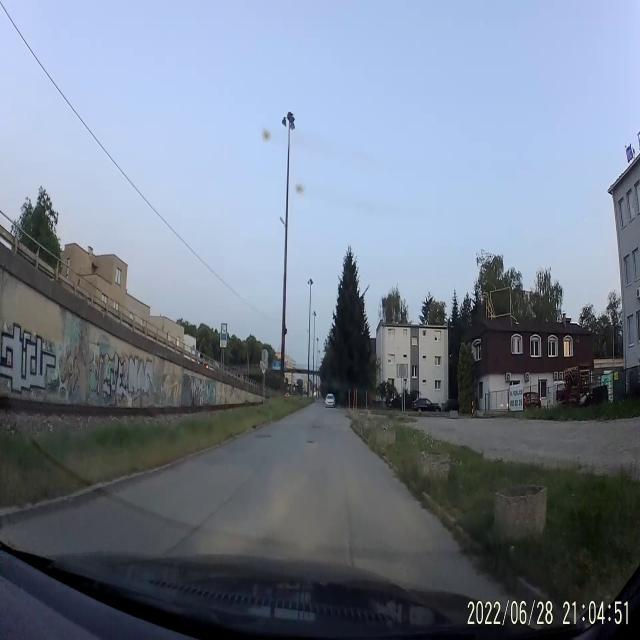Pothole: (254, 428, 274, 442), (310, 419, 324, 432), (304, 435, 318, 447)
